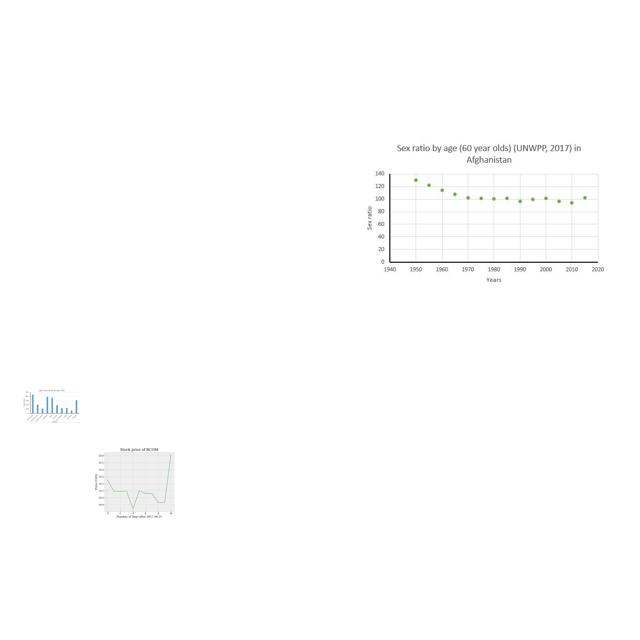Graph: (361, 141, 609, 289), (87, 443, 189, 520), (23, 389, 80, 423)
